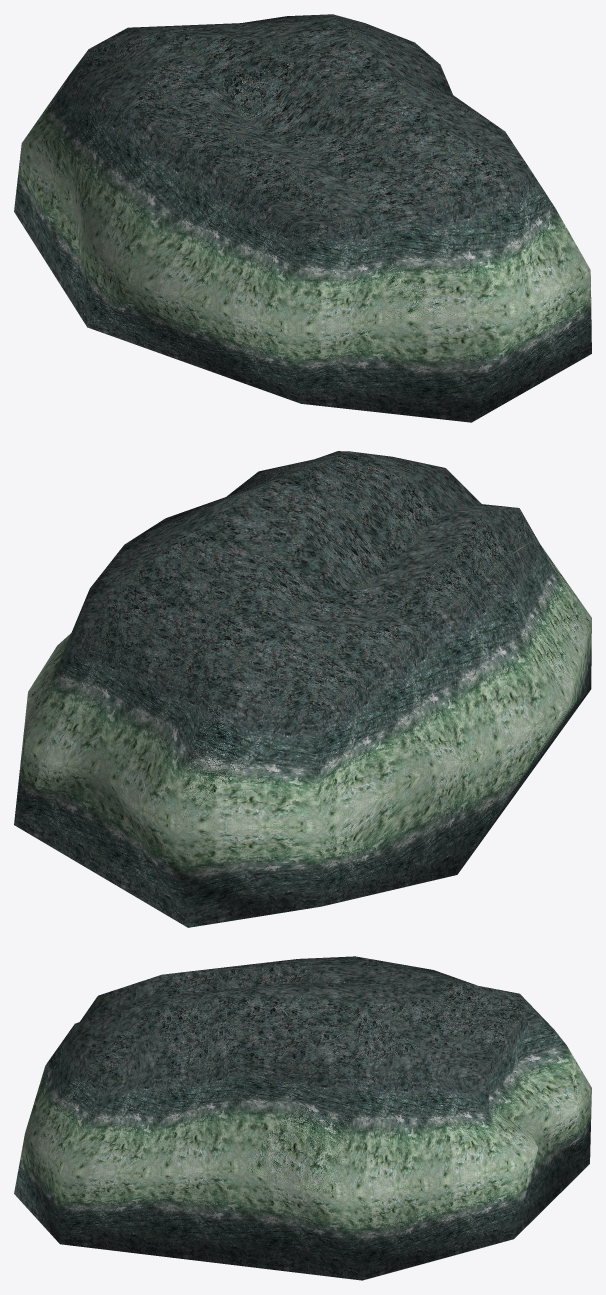
File: rock_beach_dark_lg_l0.fbx
The picture shows the model from 3 angles, top to bottom: view 1: azimuth 30°, elevation 25°; view 2: azimuth 150°, elevation 25°; view 3: azimuth 270°, elevation 25°; orthographic projection. The views are drawn at different scales.
Visible parts, largest first — view 1: mesh_node; view 2: mesh_node; view 3: mesh_node.
Boxes of the visible parts, x1,y1,x2,y2 form: mesh_node: (14,14,591,422); mesh_node: (14,451,591,927); mesh_node: (14,956,591,1280).
Bounding box in the file's own units: 10.73 × 6.75 × 15.11.
